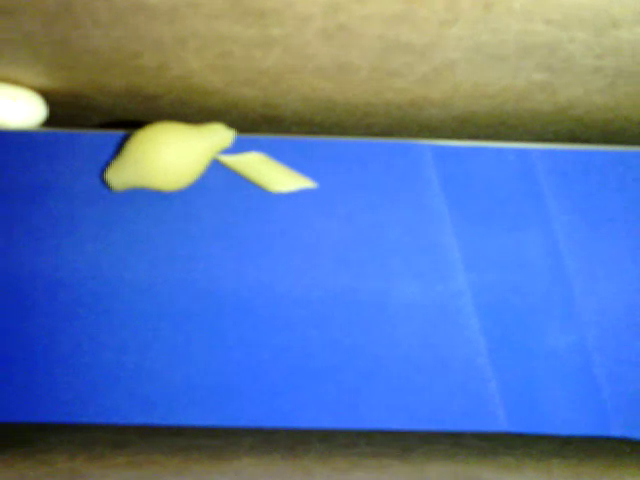penne: (214, 149, 318, 197)
shell: (102, 121, 237, 191)
